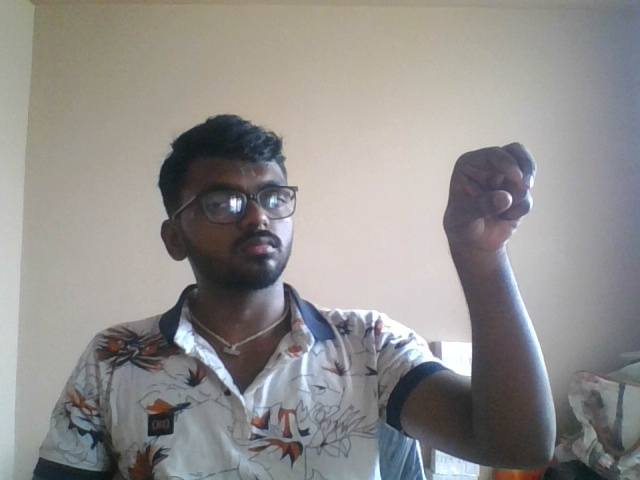No: (416, 110, 561, 284)
